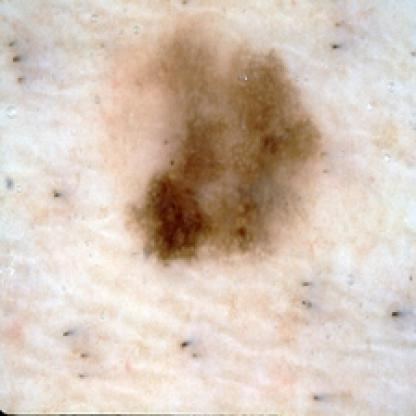malignant: (134, 150, 214, 256)
